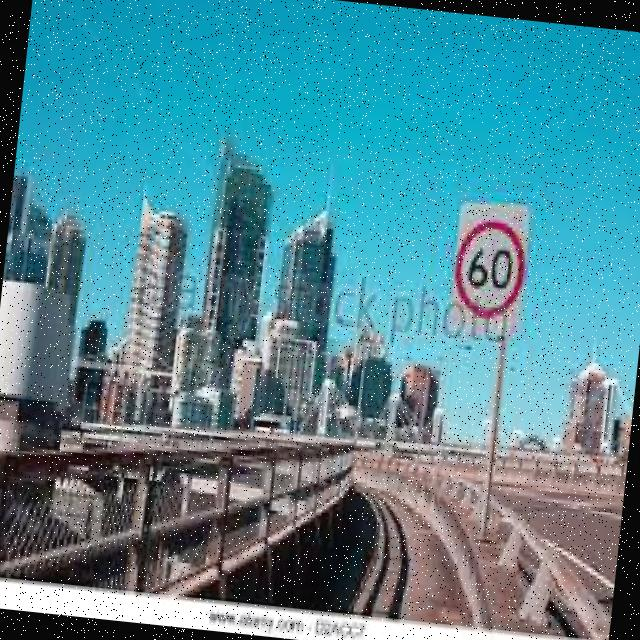Ograniczenie predkosci do 60: (452, 215, 535, 324)
